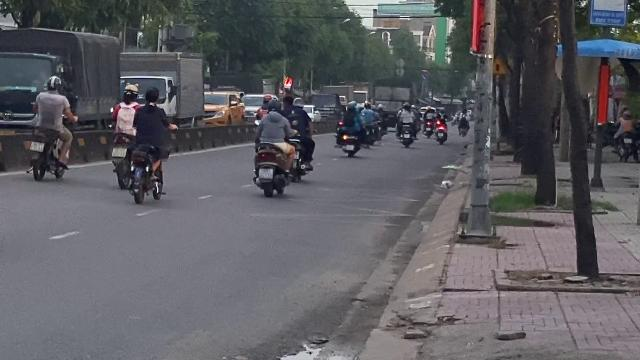helmet: (45, 76, 61, 92)
licenseplate: (28, 141, 44, 151)
motorcyclist: (125, 83, 172, 205), (26, 75, 74, 181)
nohelmet: (142, 86, 160, 108)
